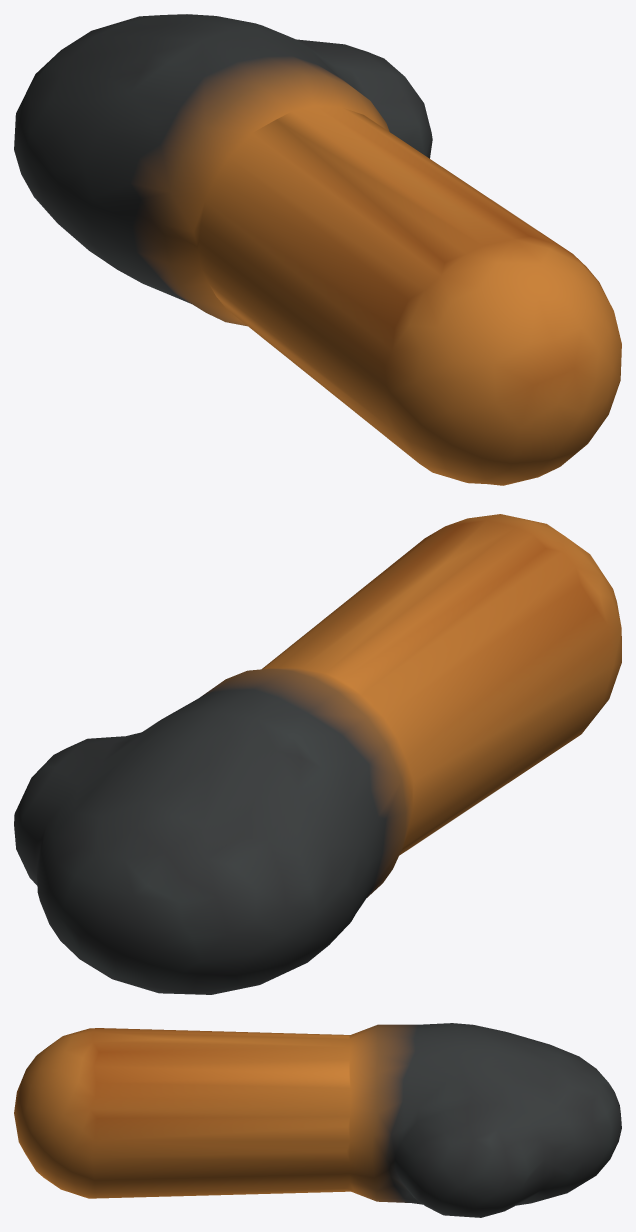
The model's file is tay_gang.glb.
The picture shows the model from 3 angles, top to bottom: view 1: azimuth 30°, elevation 25°; view 2: azimuth 150°, elevation 25°; view 3: azimuth 270°, elevation 25°; orthographic projection. The views are drawn at different scales.
Parts seen in each view (by area): view 1: tay_gang.001; view 2: tay_gang.001; view 3: tay_gang.001.
Boxes of the visible parts, x1,y1,x2,y2 form: tay_gang.001: (14, 14, 621, 485); tay_gang.001: (14, 514, 621, 994); tay_gang.001: (14, 1023, 621, 1217).
Size of the model in its own units: 0.1378 by 0.0965 by 0.3211.
